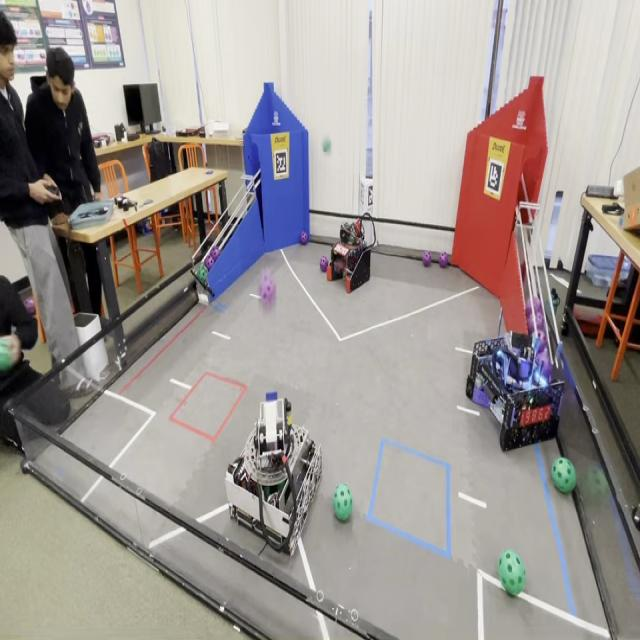artifact_green: (498, 550, 525, 596), (582, 465, 609, 504), (551, 458, 576, 494), (334, 483, 352, 521), (0, 338, 12, 372), (24, 296, 36, 316), (198, 264, 207, 284), (632, 507, 639, 530), (323, 138, 331, 152)
artifact_purple: (536, 349, 552, 381), (259, 272, 275, 304), (526, 312, 545, 334), (526, 297, 543, 315), (535, 328, 547, 350), (542, 360, 553, 381), (536, 349, 549, 365), (204, 253, 215, 271), (25, 297, 35, 316), (439, 252, 449, 268), (535, 311, 544, 328), (534, 297, 543, 314), (320, 256, 329, 272), (422, 252, 431, 266), (520, 262, 526, 282), (526, 298, 532, 317), (528, 317, 534, 335), (300, 232, 308, 245), (212, 247, 220, 260), (526, 310, 532, 323)
